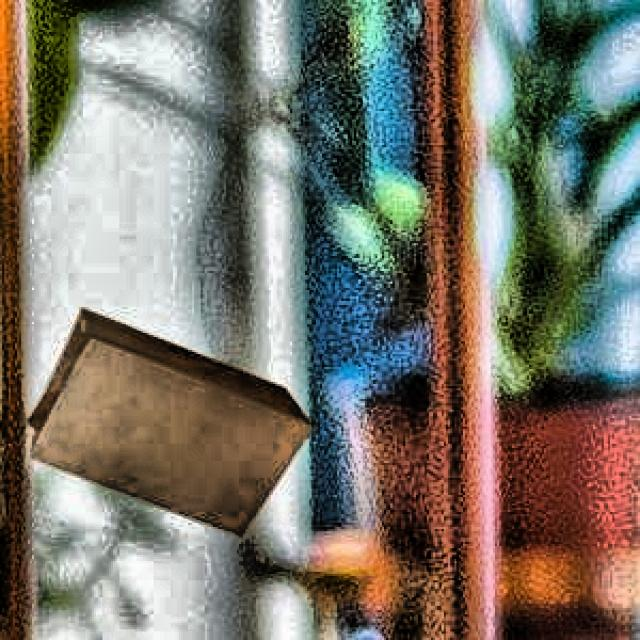Paper-bag: (25, 303, 336, 561)
